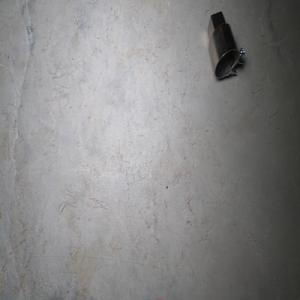MetalPart: (207, 10, 245, 79)
